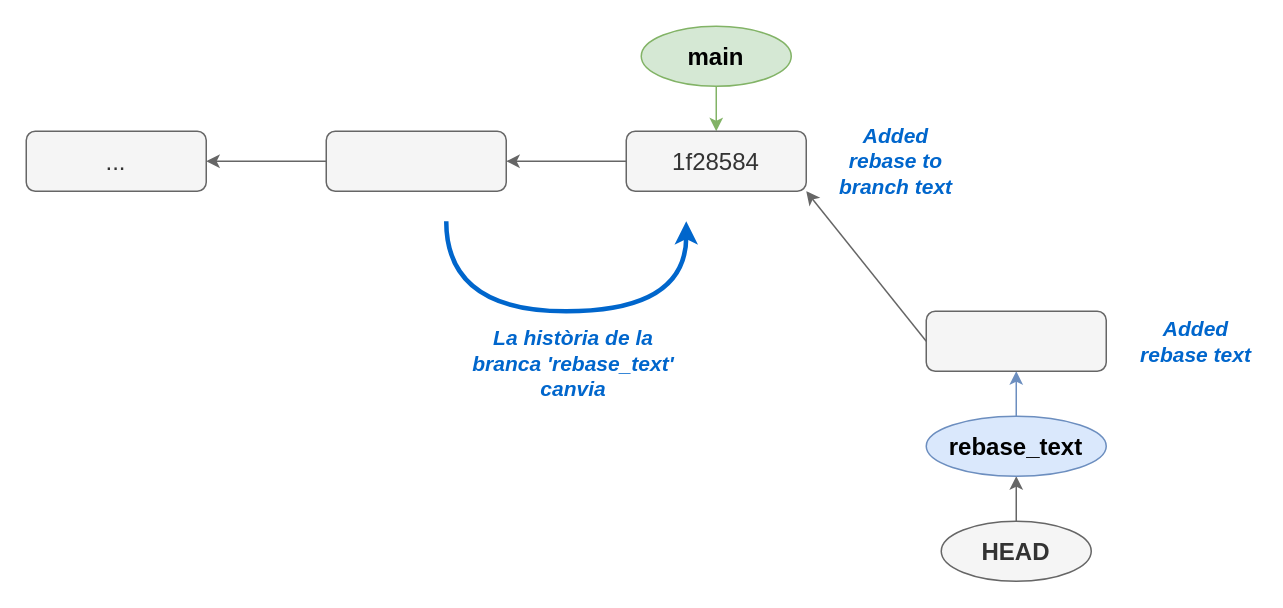
The diagram is 1283 pixels wide and 608 high, and some of its shapes have lost their labels. Each missing label, with the centre of its shape:
270498d: [415,160]
81403f8: [1015,340]
